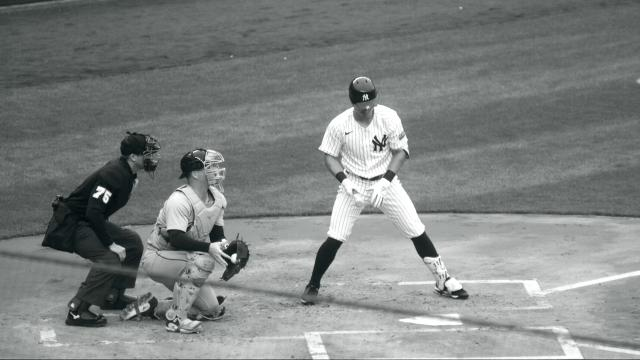ball: (230, 254, 242, 266)
bat: (352, 188, 364, 208)
